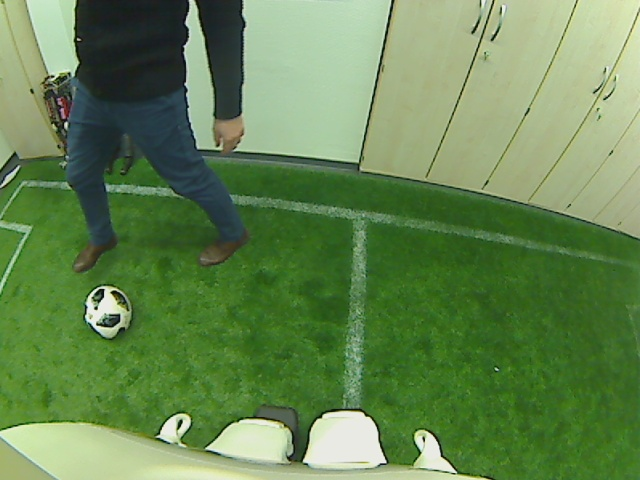ball: (81, 283, 132, 340)
